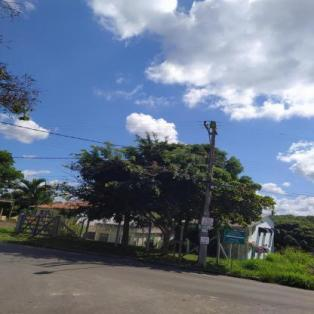Poste: (192, 127, 225, 268)
